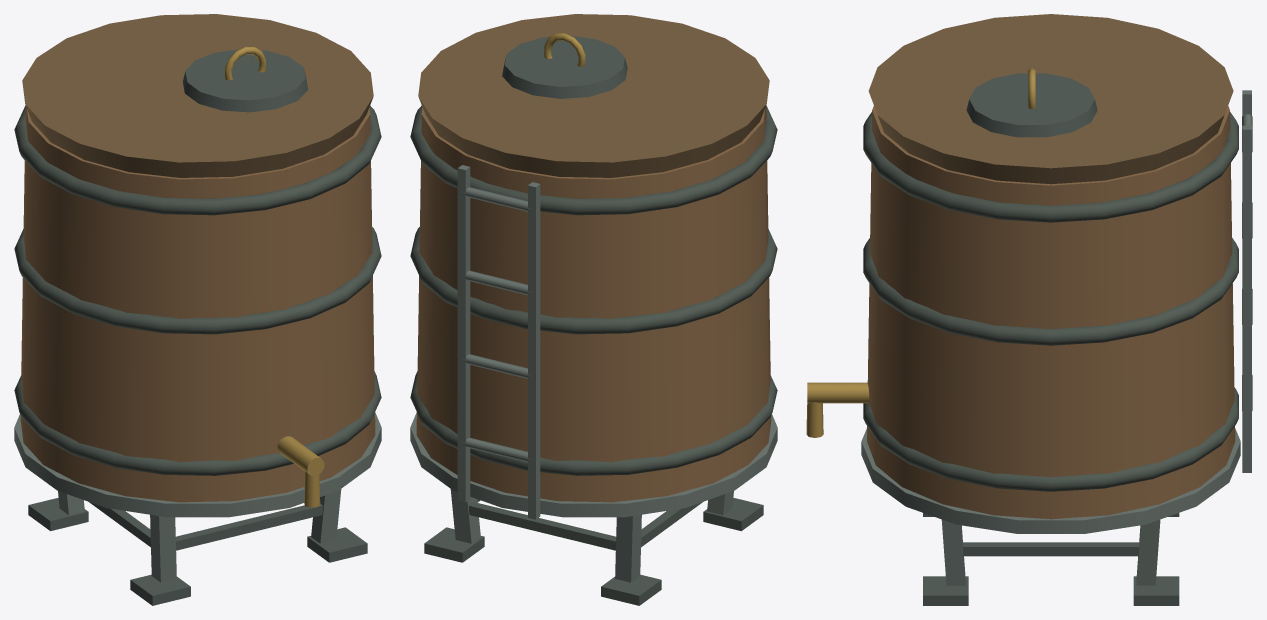
The model's file is farm-water-butt.fixed.glb.
The picture shows the model from 3 angles, left to right: view 1: azimuth 30°, elevation 25°; view 2: azimuth 150°, elevation 25°; view 3: azimuth 270°, elevation 25°; orthographic projection. The views are drawn at different scales.
Parts seen in each view (by area): view 1: waterButtStaves, waterButtHardware; view 2: waterButtHardware, waterButtStaves; view 3: waterButtStaves, waterButtHardware.
Boxes of the visible parts, x1,y1,x2,y2 form: waterButtStaves: [20, 106, 375, 502]; waterButtHardware: [14, 14, 381, 605]; waterButtHardware: [410, 14, 777, 605]; waterButtStaves: [416, 106, 771, 502]; waterButtStaves: [867, 106, 1235, 519]; waterButtHardware: [806, 14, 1252, 605].
Bounding box in the file's own units: 1.6 × 2.33 × 1.87.
